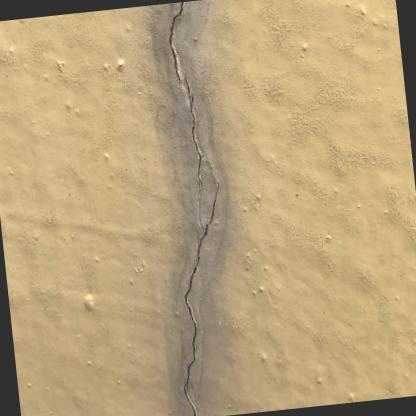crack: (182, 162, 219, 416), (169, 1, 202, 195)
